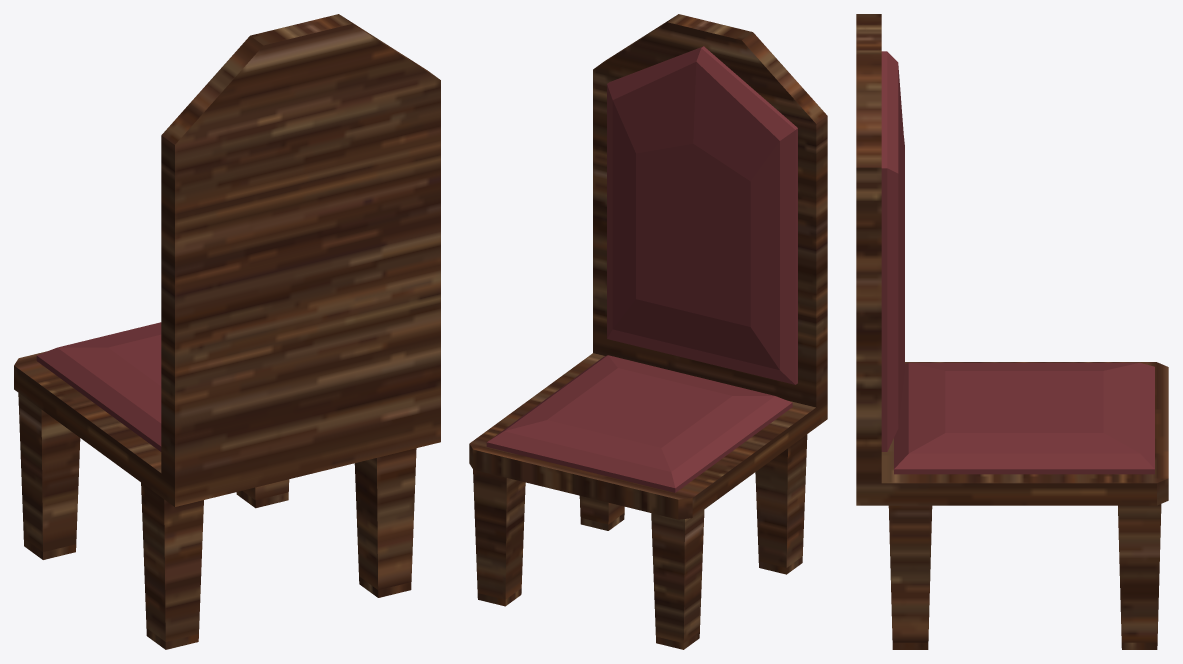
File: Chair_V2.fbx
3 renders of one model, left to right at view 1: azimuth 30°, elevation 25°; view 2: azimuth 150°, elevation 25°; view 3: azimuth 270°, elevation 25°, orthographic. The views are drawn at different scales.
Visible parts, largest first — view 1: Chair; view 2: Chair; view 3: Chair.
Part boxes in pixels (x1,y1,x2,y2): Chair: [14, 14, 440, 649]; Chair: [469, 14, 827, 649]; Chair: [856, 14, 1168, 649].
Bounding box in the file's own units: 87.57 × 189 × 95.24.
